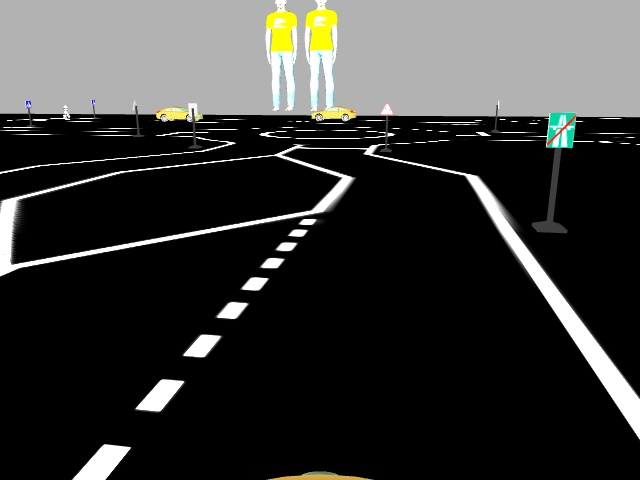HighwayExit: (544, 111, 576, 149)
